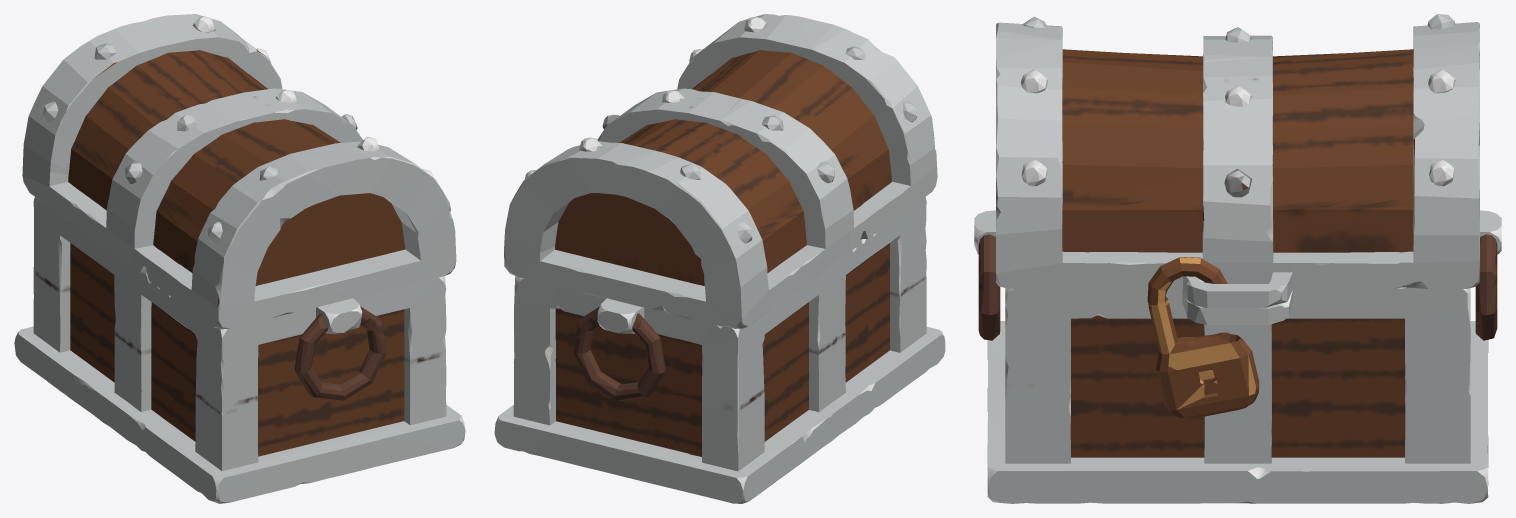
The model's file is chest_unlocked2.fbx.
The picture shows the model from 3 angles, left to right: view 1: azimuth 30°, elevation 25°; view 2: azimuth 150°, elevation 25°; view 3: azimuth 270°, elevation 25°; orthographic projection. The views are drawn at different scales.
Parts seen in each view (by area): view 1: Cube.007_dmg, Cube.002_dmg, Cube.001, Torus.002_dmg; view 2: Cube.007_dmg, Cube.002_dmg, Cube.001, Torus.002_dmg; view 3: Cube.007_dmg, Cube.002_dmg, Cube.001, Torus.001_dmg, Torus.002_dmg.
Boxes of the visible parts, x1,y1,x2,y2 form: Cube.007_dmg: (22,14,456,329); Cube.002_dmg: (14,197,465,503); Cube.001: (70,243,404,456); Torus.002_dmg: (294,306,386,400); Cube.007_dmg: (504,14,937,328); Cube.002_dmg: (494,197,945,503); Cube.001: (555,243,889,456); Torus.002_dmg: (573,306,665,400); Cube.007_dmg: (996,14,1479,308); Cube.002_dmg: (974,210,1501,503); Cube.001: (1070,315,1405,457); Torus.001_dmg: (1147,257,1259,418); Torus.002_dmg: (978,234,1497,340).
Bounding box in the file's own units: 269 × 293 × 363.
